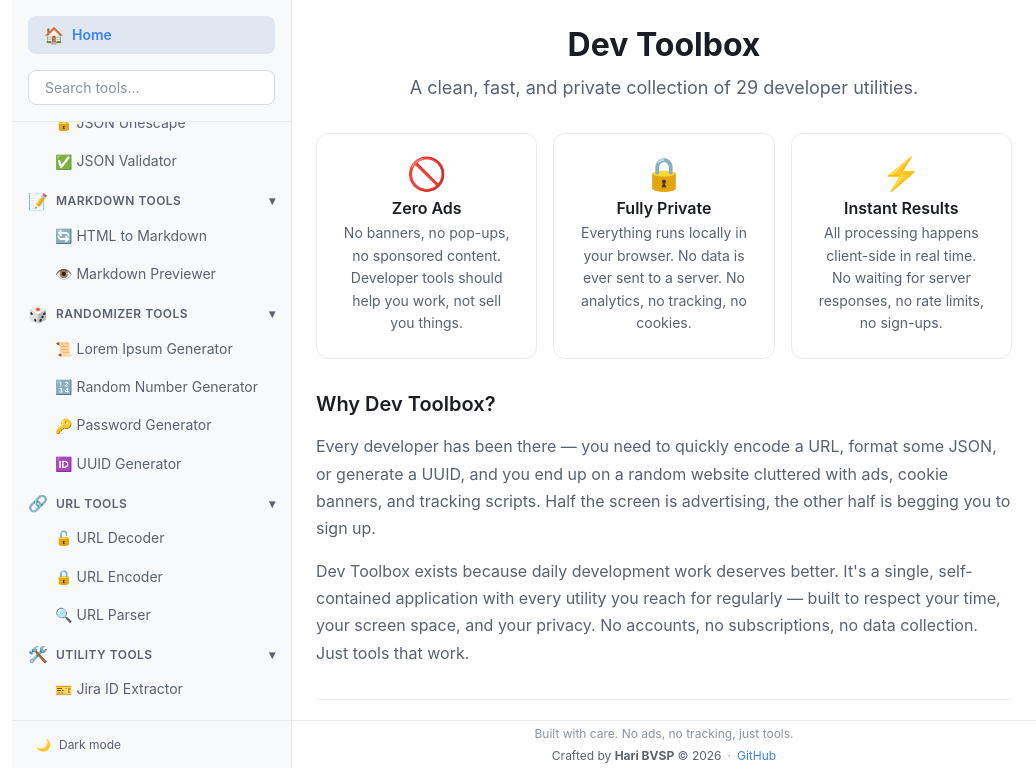
Test: App shell routing › clicking a tool link in the sidebar navigates without full page reload
This screenshot has width=1036, height=768.
(page scrolled)
Expected: the heading "Dev Toolbox" is shown, [568,25,760,64]
Click a tool link in the sidebar
Click the link "🔒 URL Encoder" at coordinates (109, 576), box [55,568,163,585]
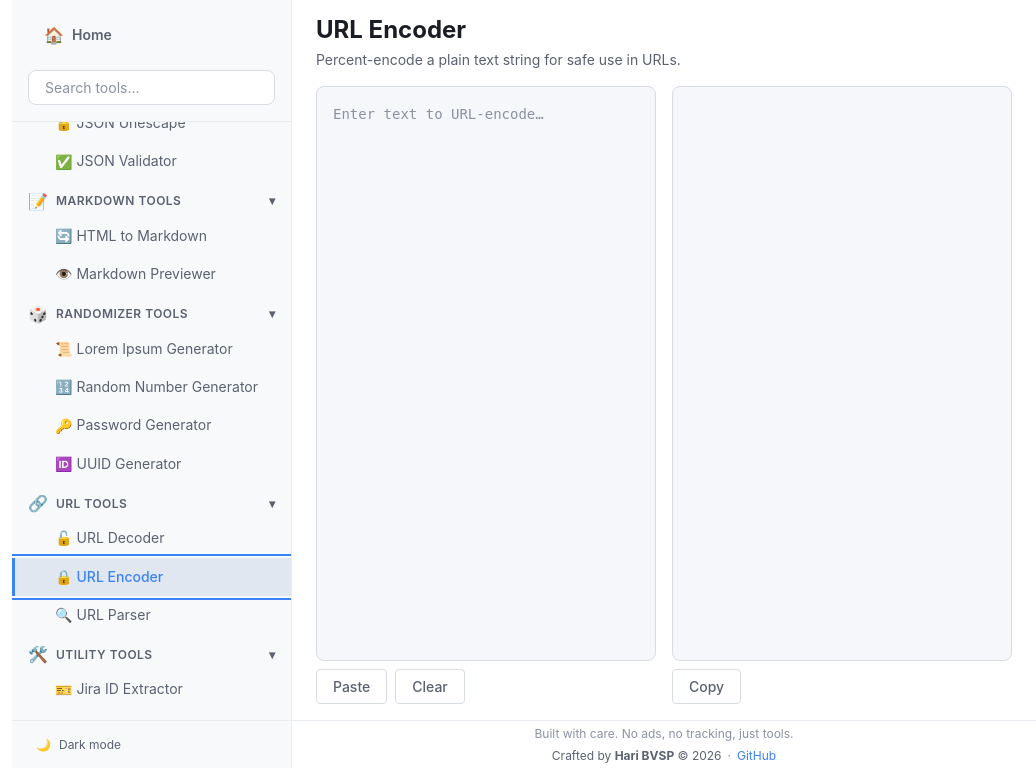
Now the heading "URL Encoder" is shown, box [316,15,466,44]
Now the heading "Dev Toolbox" is gone
